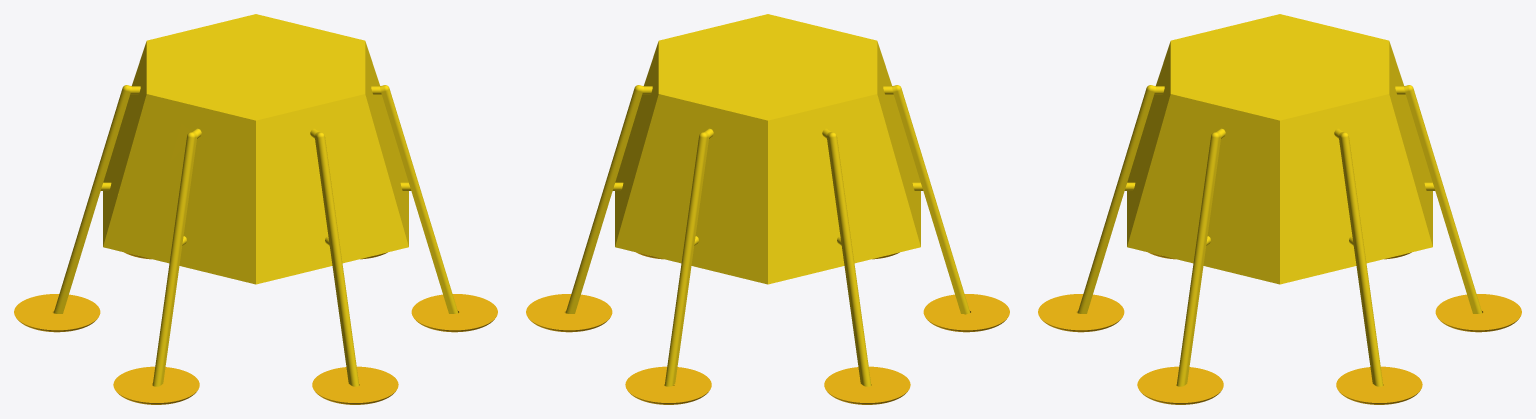
The picture shows the model from 3 angles, left to right: view 1: azimuth 30°, elevation 25°; view 2: azimuth 150°, elevation 25°; view 3: azimuth 270°, elevation 25°; orthographic projection.
Parts seen in each view (by area): view 1: tmp_export_mesh33; view 2: tmp_export_mesh33; view 3: tmp_export_mesh33.
Part boxes in pixels (x1,y1,x2,y2): tmp_export_mesh33: (14,14,497,404); tmp_export_mesh33: (526,14,1009,404); tmp_export_mesh33: (1038,14,1521,404).
Bounding box in the file's own units: 0.0493 × 0.0554 × 0.0338.
